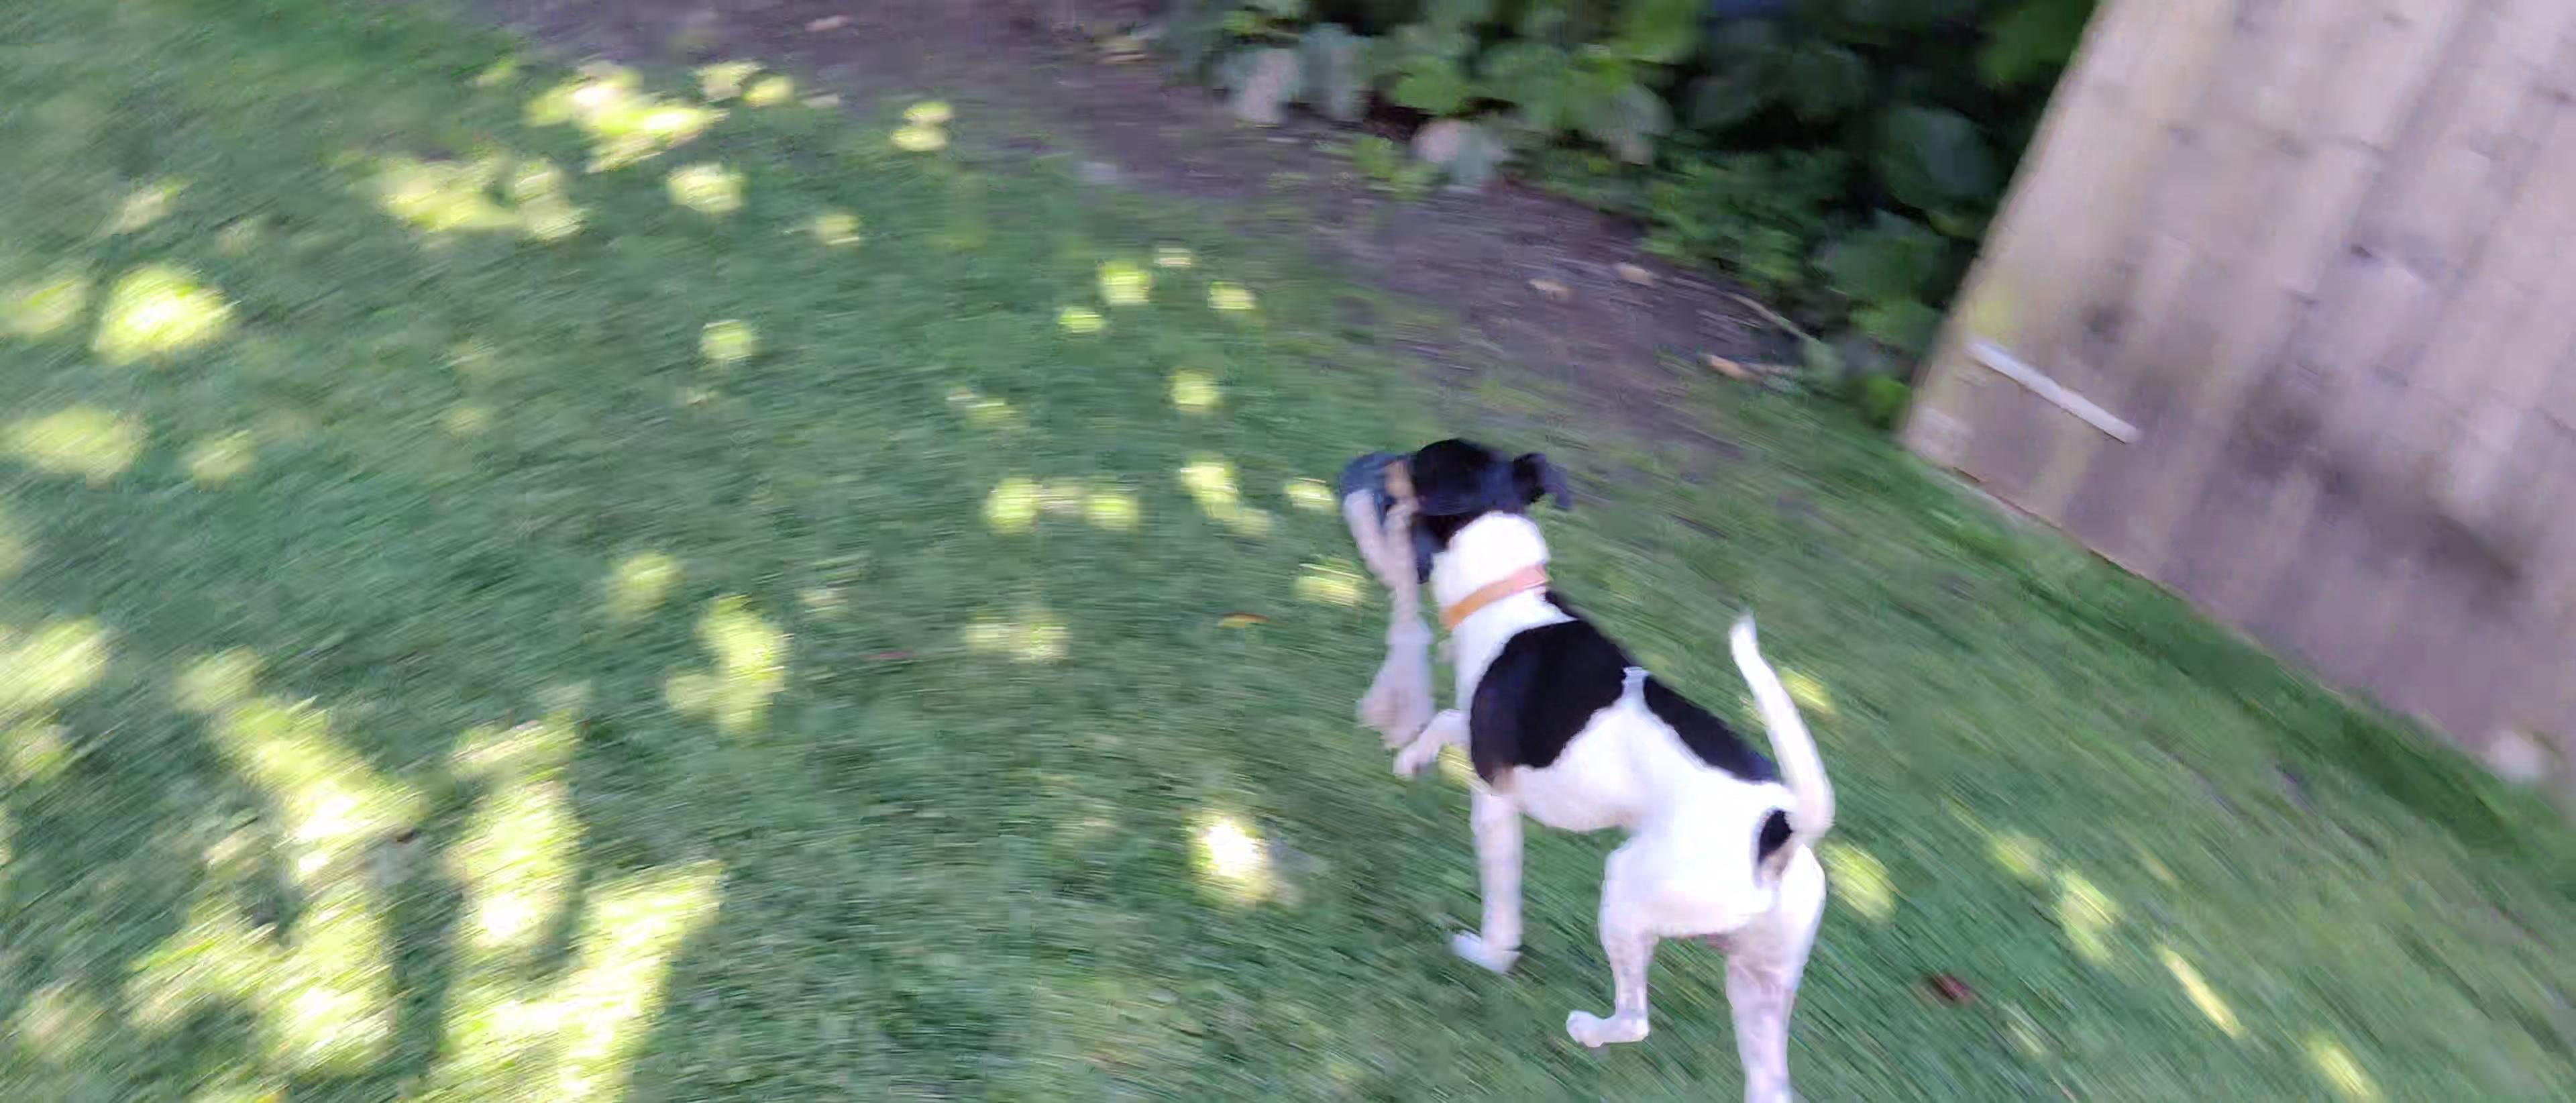Dog: (1367, 426, 1845, 1103)
